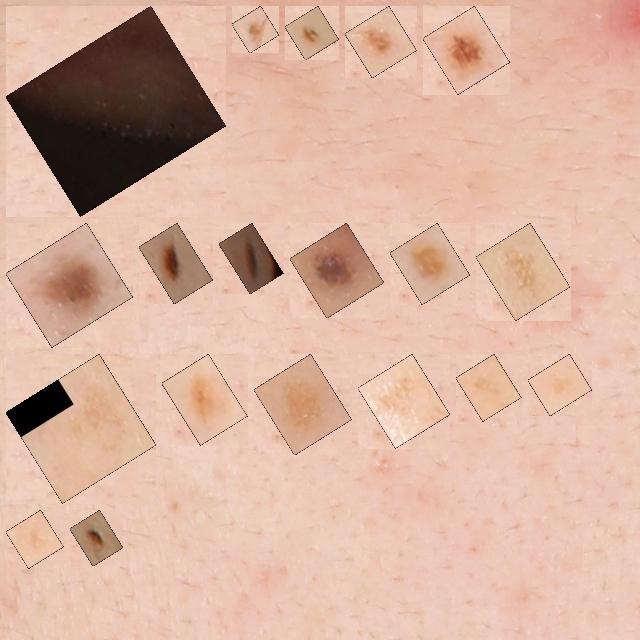hypertrophic_scar: (17, 17, 215, 205)
melasma: (17, 365, 145, 492), (265, 365, 341, 444), (487, 234, 559, 309), (369, 365, 439, 437), (173, 365, 236, 434), (467, 365, 510, 410), (539, 365, 581, 405), (17, 521, 53, 557)
nevus: (17, 234, 122, 336), (301, 234, 373, 307), (434, 17, 499, 83), (401, 234, 459, 293), (150, 234, 202, 293), (356, 17, 406, 67), (230, 234, 272, 283), (81, 521, 112, 555), (296, 17, 328, 49), (243, 17, 268, 42)
